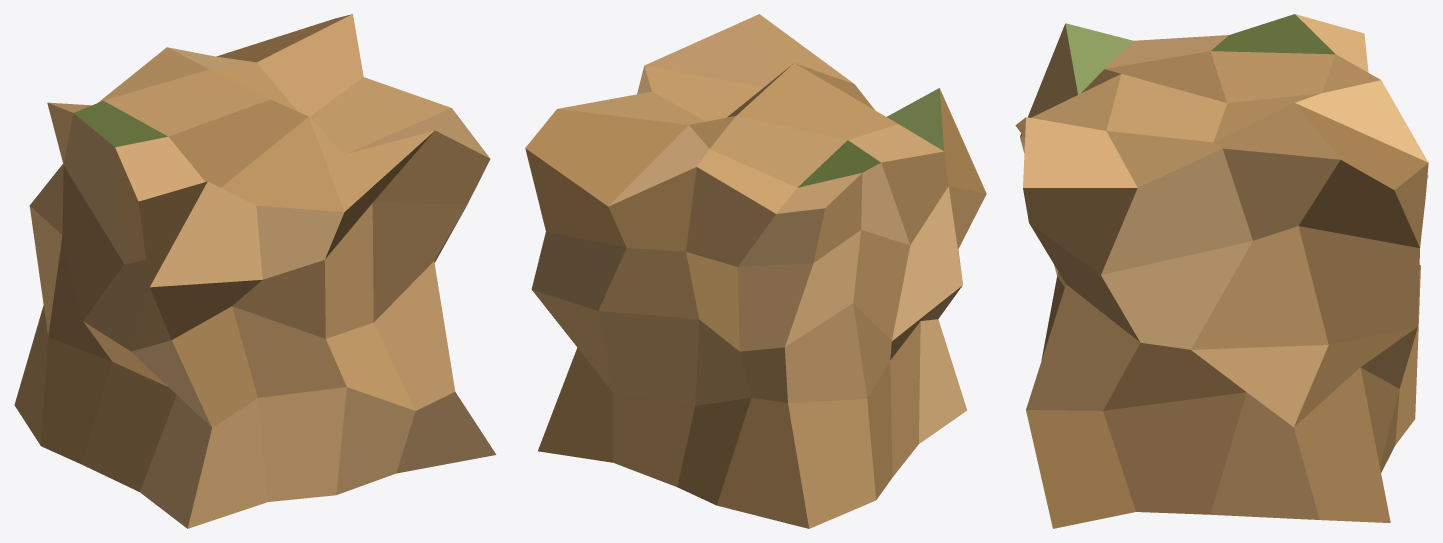
Rendered from Sandstone_b.fbx.
The picture shows the model from 3 angles, left to right: view 1: azimuth 30°, elevation 25°; view 2: azimuth 150°, elevation 25°; view 3: azimuth 270°, elevation 25°; orthographic projection. The views are drawn at different scales.
Parts seen in each view (by area): view 1: Sandstone_b; view 2: Sandstone_b; view 3: Sandstone_b.
Boxes of the visible parts, x1,y1,x2,y2 form: Sandstone_b: [14, 14, 496, 528]; Sandstone_b: [525, 14, 986, 528]; Sandstone_b: [1015, 14, 1428, 528].
Size of what is drawn, in the model's own units: 1 by 1 by 1.
